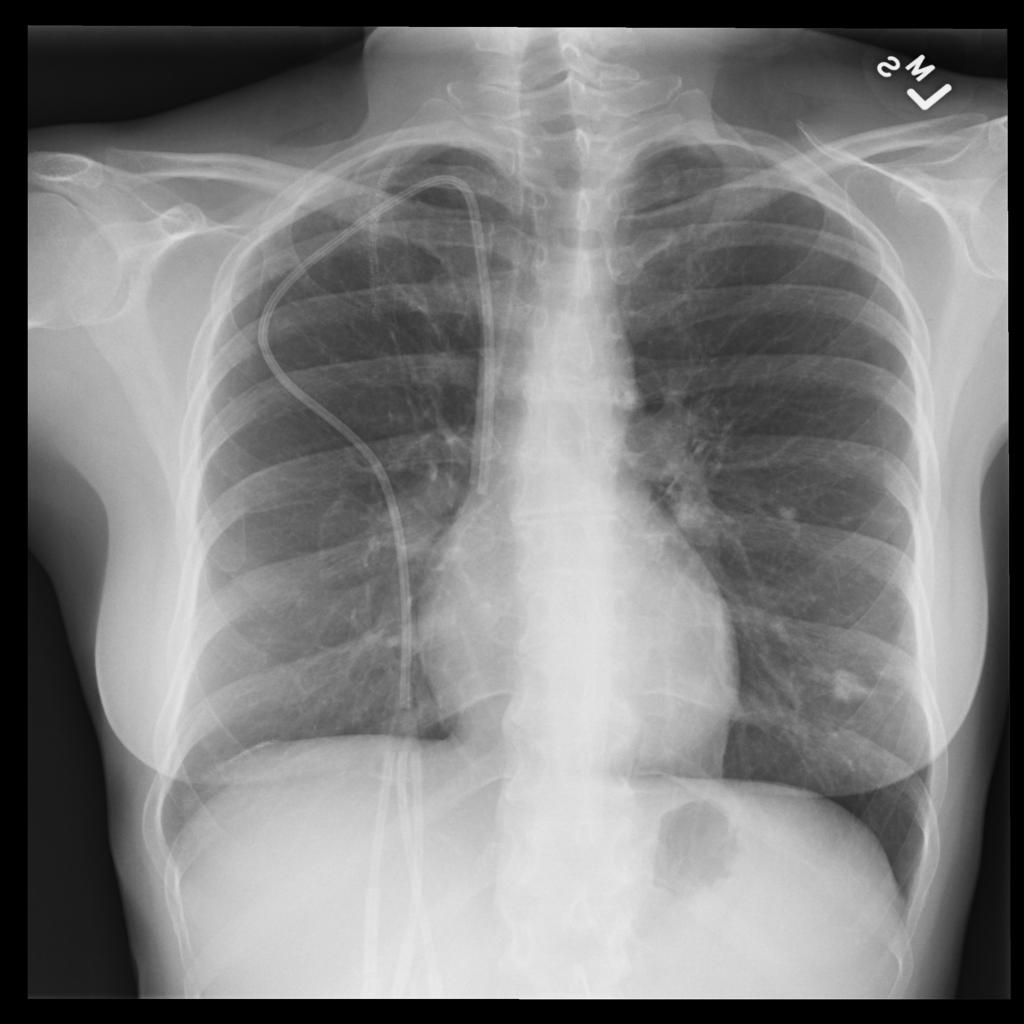nodule: (810, 647, 883, 718), (764, 488, 814, 536)
